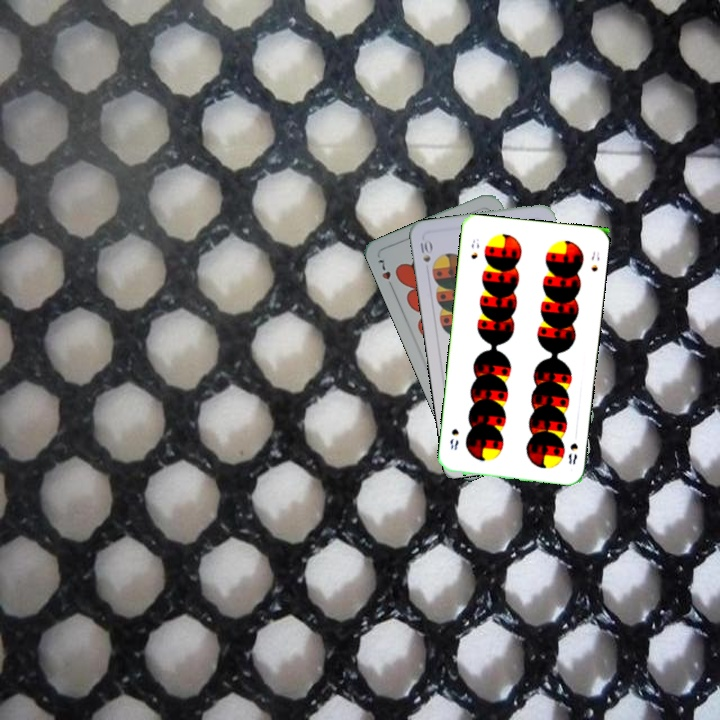H7: (374, 255, 396, 292)
S10: (416, 236, 433, 265)
S8: (564, 439, 580, 467), (467, 235, 482, 262)
